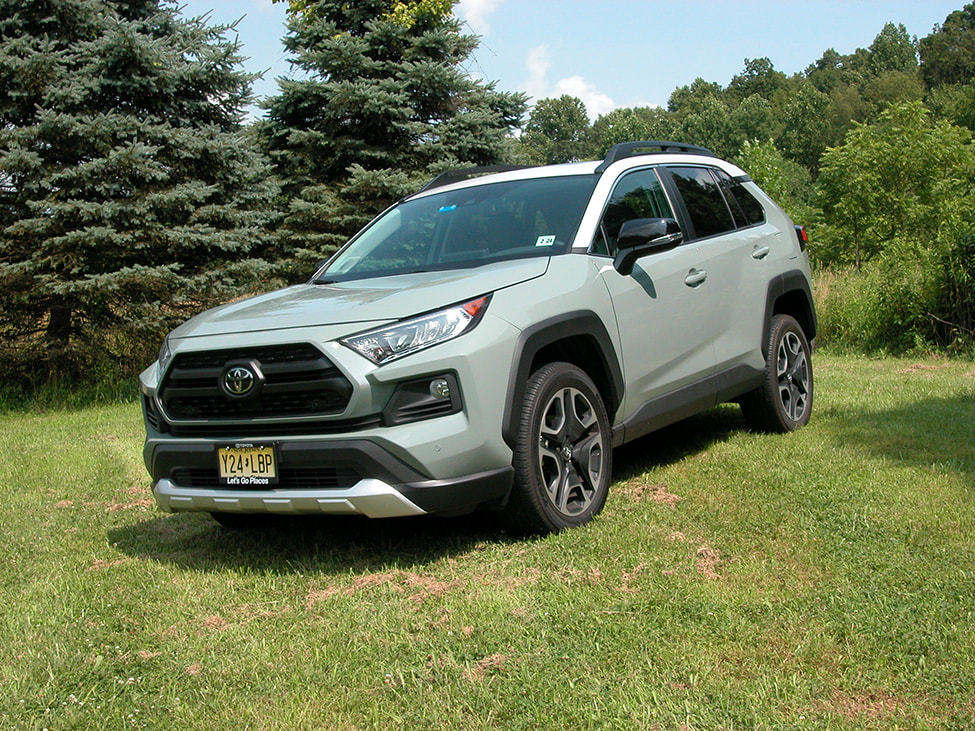Toyota RAV-4: (136, 150, 820, 540)
